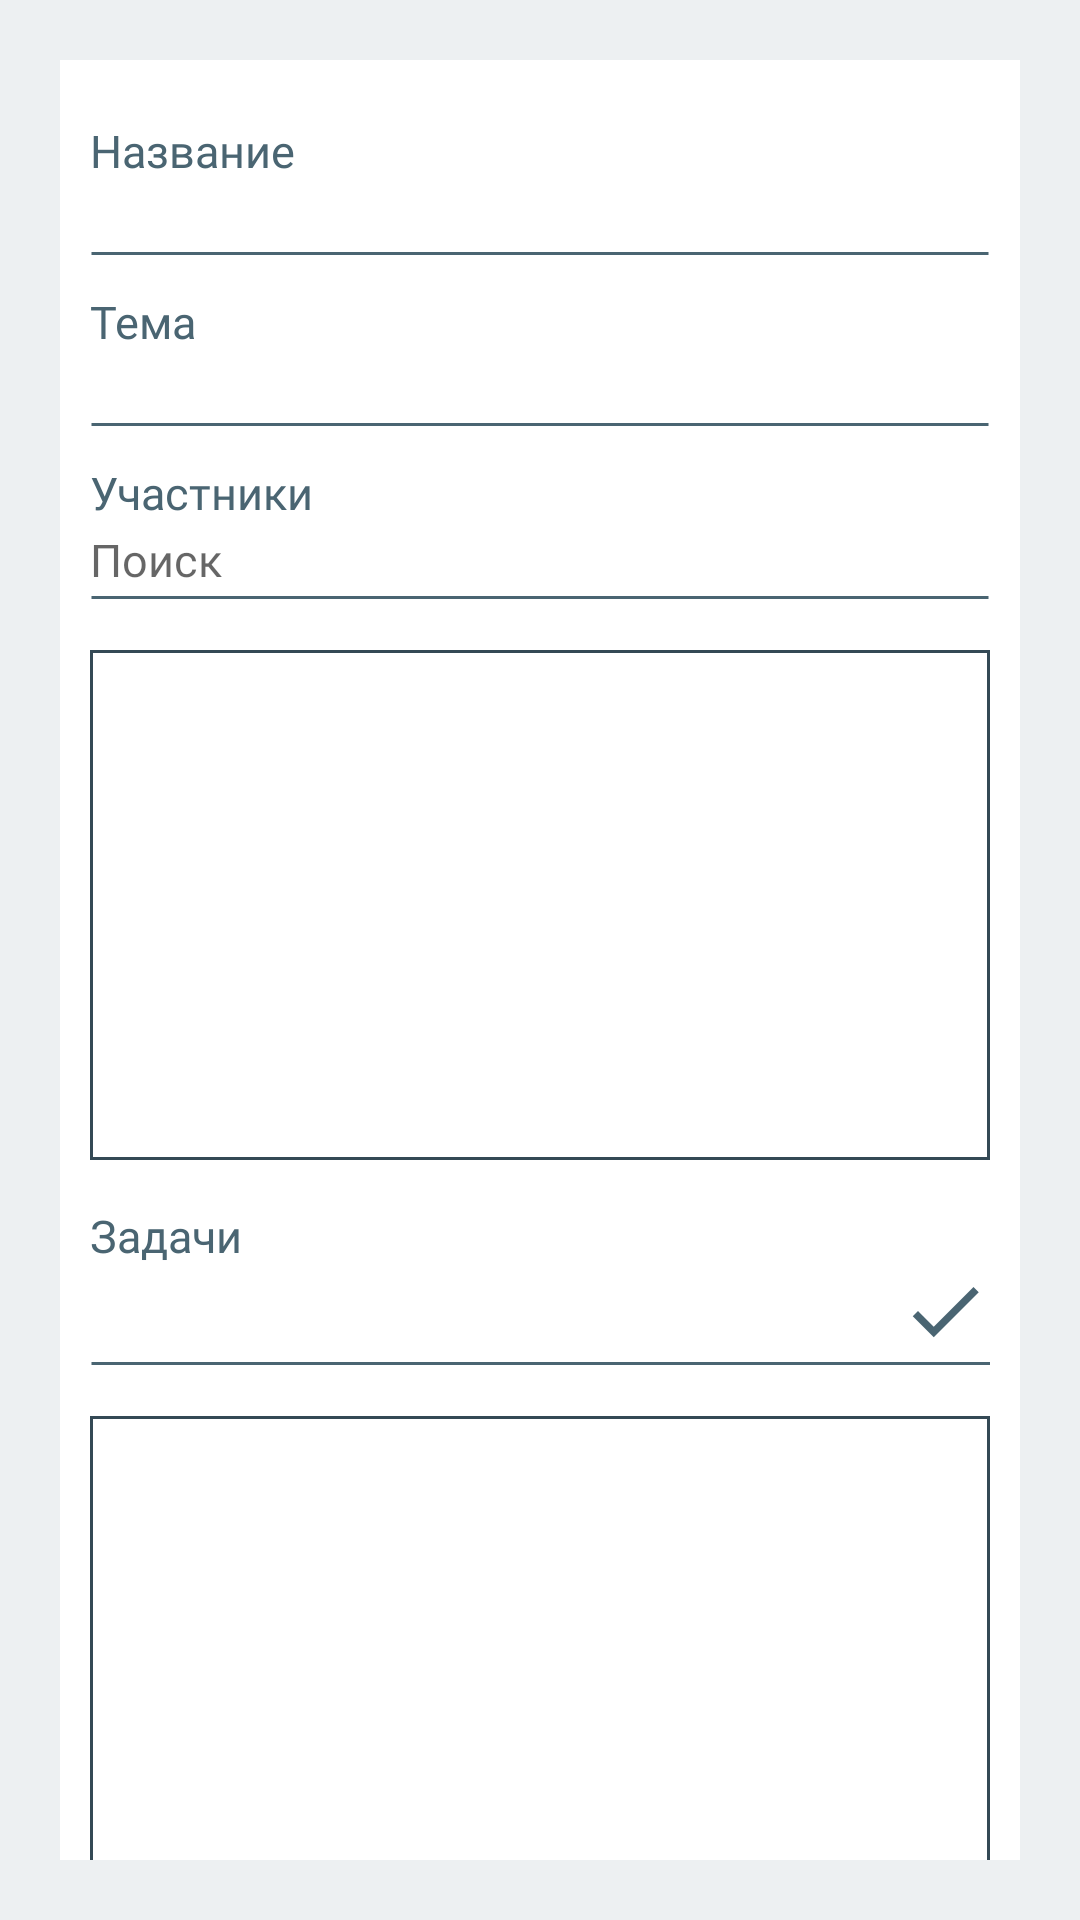

Named icons in this screenshot (1080 × 1920) and their centers, point (x, y):
done: point (946, 1312)
